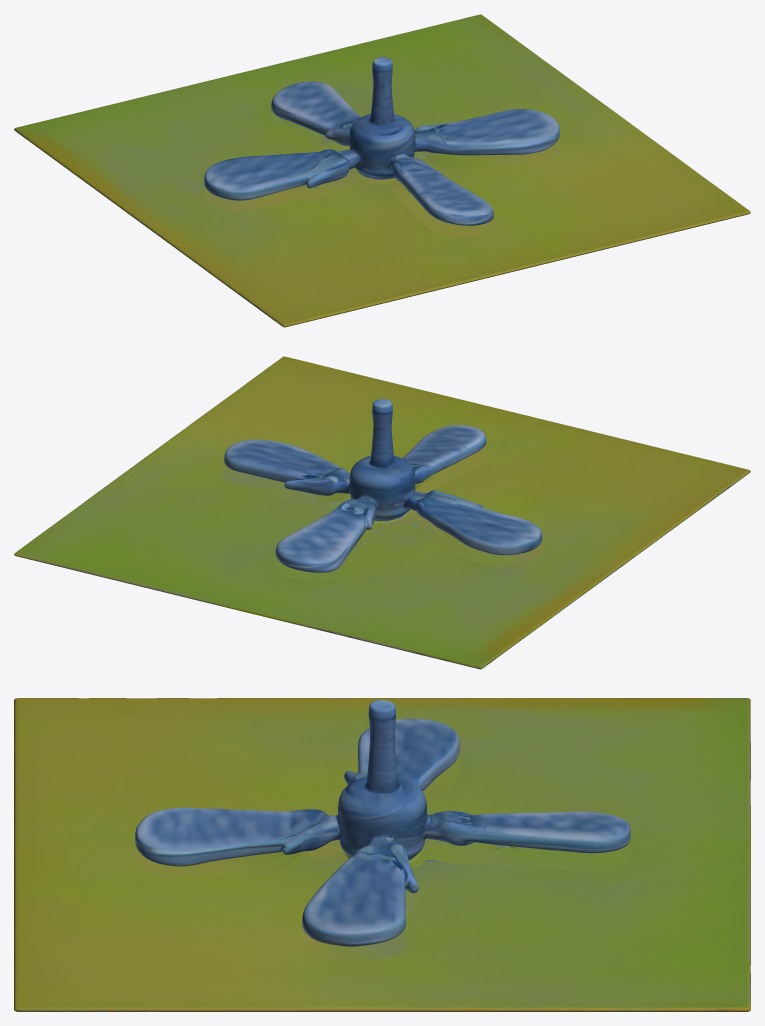
File: ceiling-fan.glb
The picture shows the model from 3 angles, top to bottom: view 1: azimuth 30°, elevation 25°; view 2: azimuth 150°, elevation 25°; view 3: azimuth 270°, elevation 25°; orthographic projection. The views are drawn at different scales.
Parts seen in each view (by area): view 1: textured; view 2: textured; view 3: textured.
Boxes of the visible parts, bbox=[...] form: textured: bbox=[14, 14, 750, 327]; textured: bbox=[14, 356, 750, 669]; textured: bbox=[14, 698, 750, 1011].
Size of the model in its own units: 1.99 by 0.4558 by 1.99.
1 material, 1 textured.
